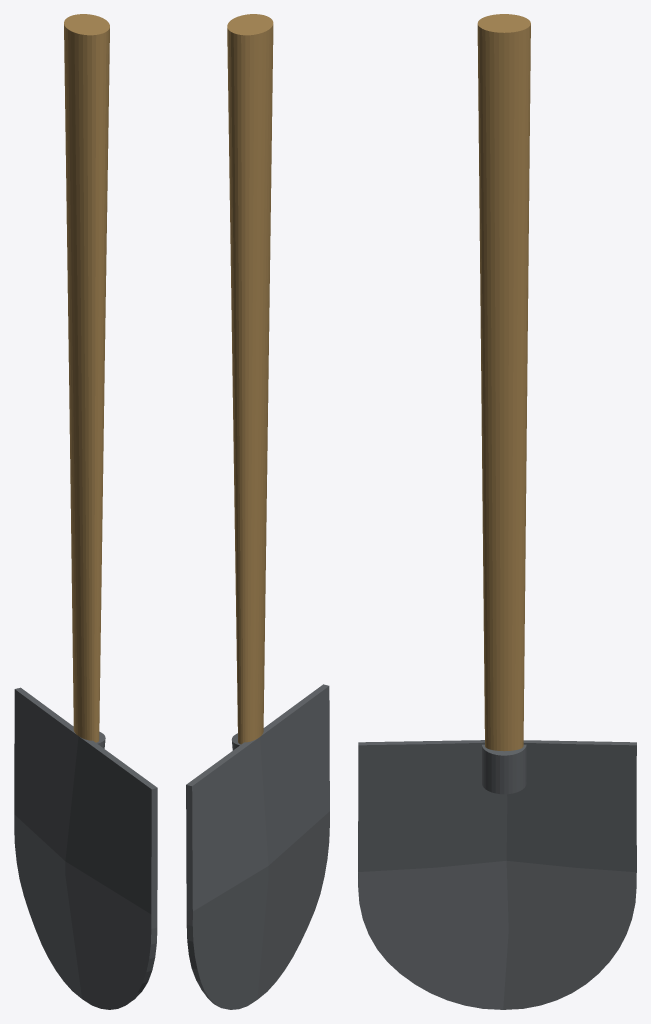
The model's file is Shovel.fbx.
The picture shows the model from 3 angles, left to right: view 1: azimuth 30°, elevation 25°; view 2: azimuth 150°, elevation 25°; view 3: azimuth 270°, elevation 25°; orthographic projection.
Parts seen in each view (by area): view 1: Cylinder; view 2: Cylinder; view 3: Cylinder.
Boxes of the visible parts, <box> form: Cylinder: <box>14,14,157,1009</box>; Cylinder: <box>186,14,329,1009</box>; Cylinder: <box>358,14,636,1009</box>.
Size of the model in its own units: 0.0617 by 1.48 by 0.377.
